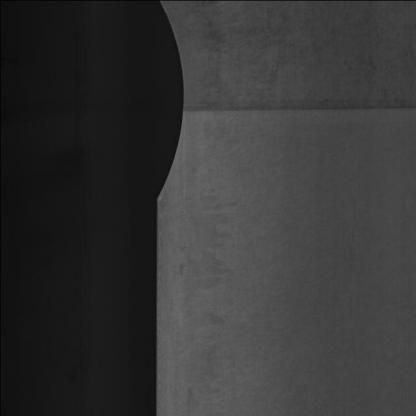crescent_gap: (136, 0, 197, 218)
welding_line: (173, 82, 416, 120)
